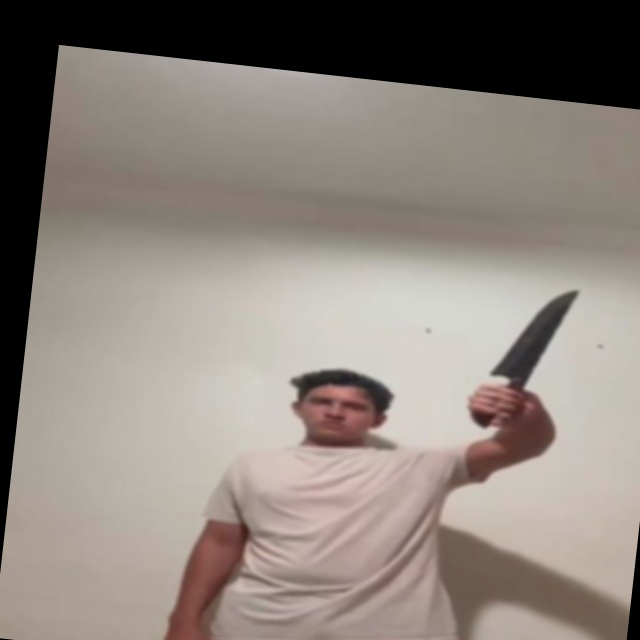Sharp-Object: (488, 279, 584, 384)
